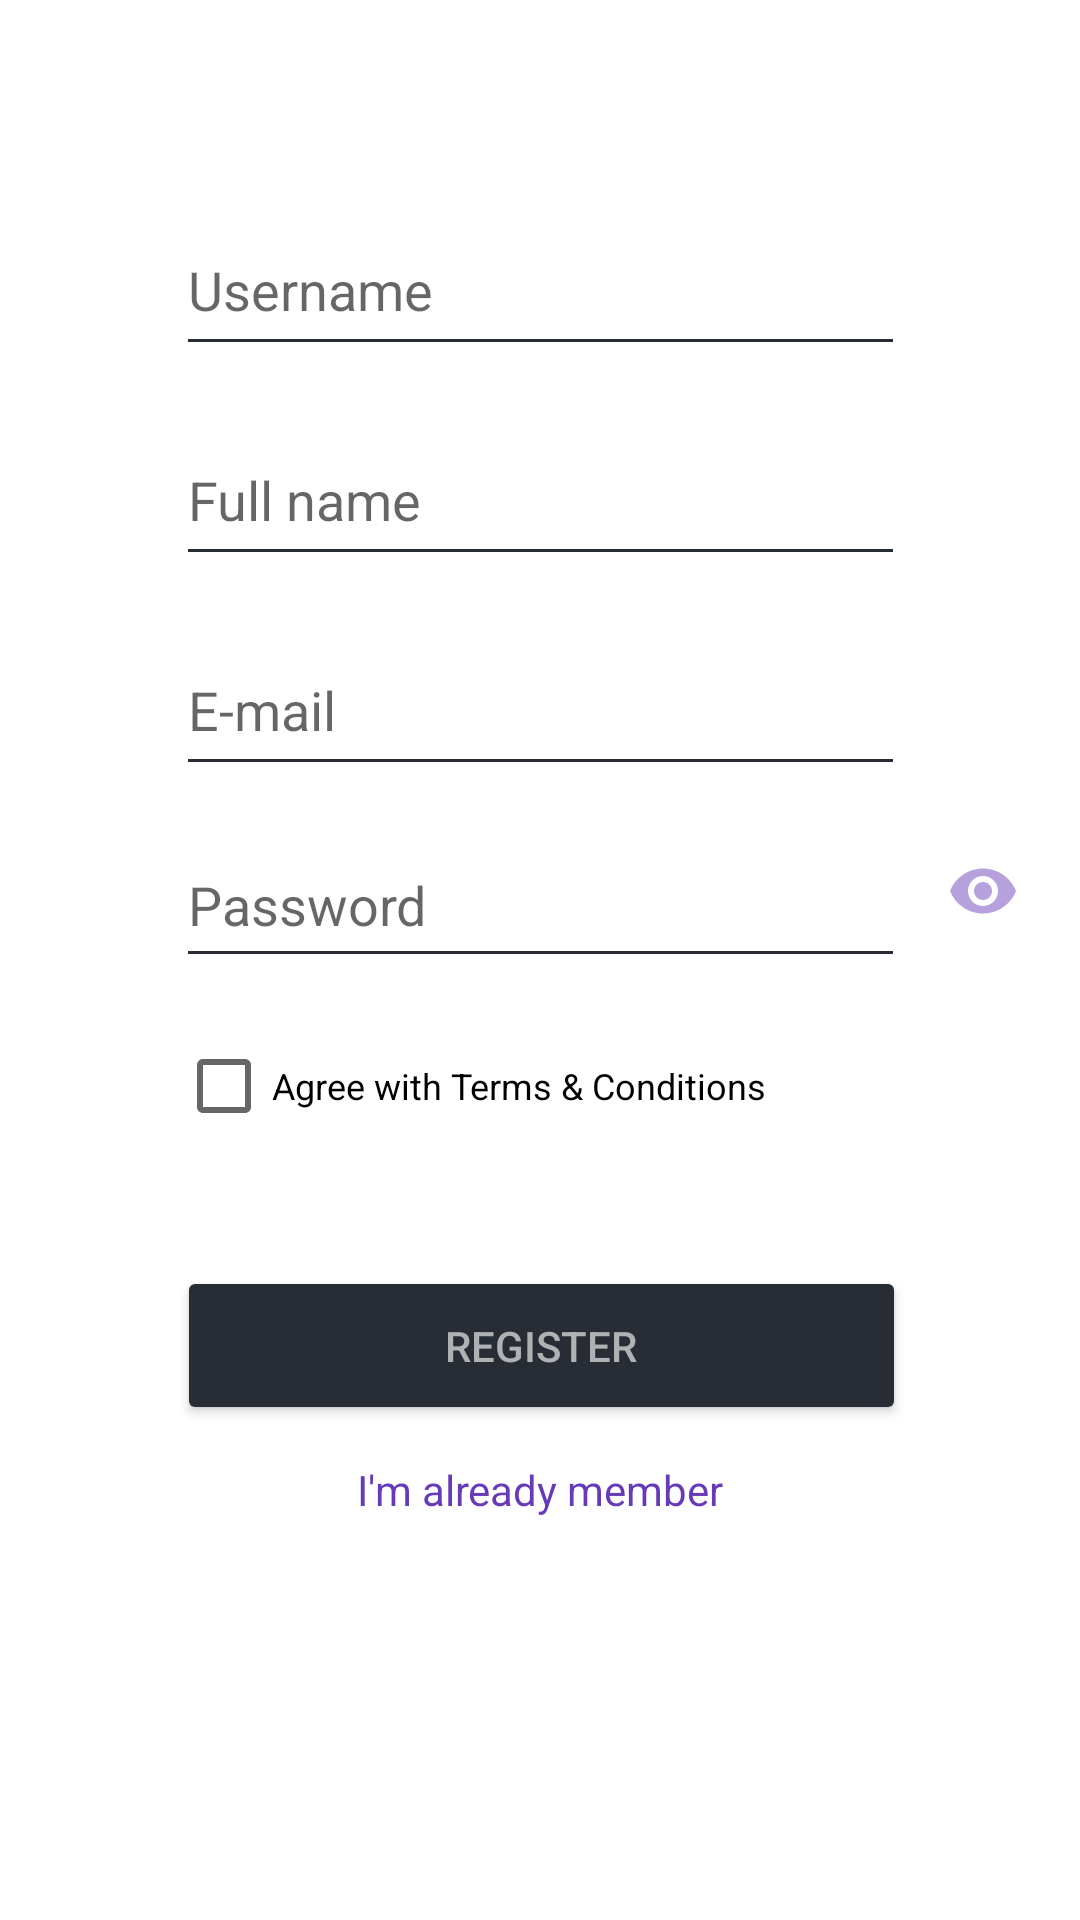

Locate icon controls on the screen. Image size 1080 x 1920, boxes as (x1, y1, x2, y2).
remove eye: (950, 868, 1016, 914)
